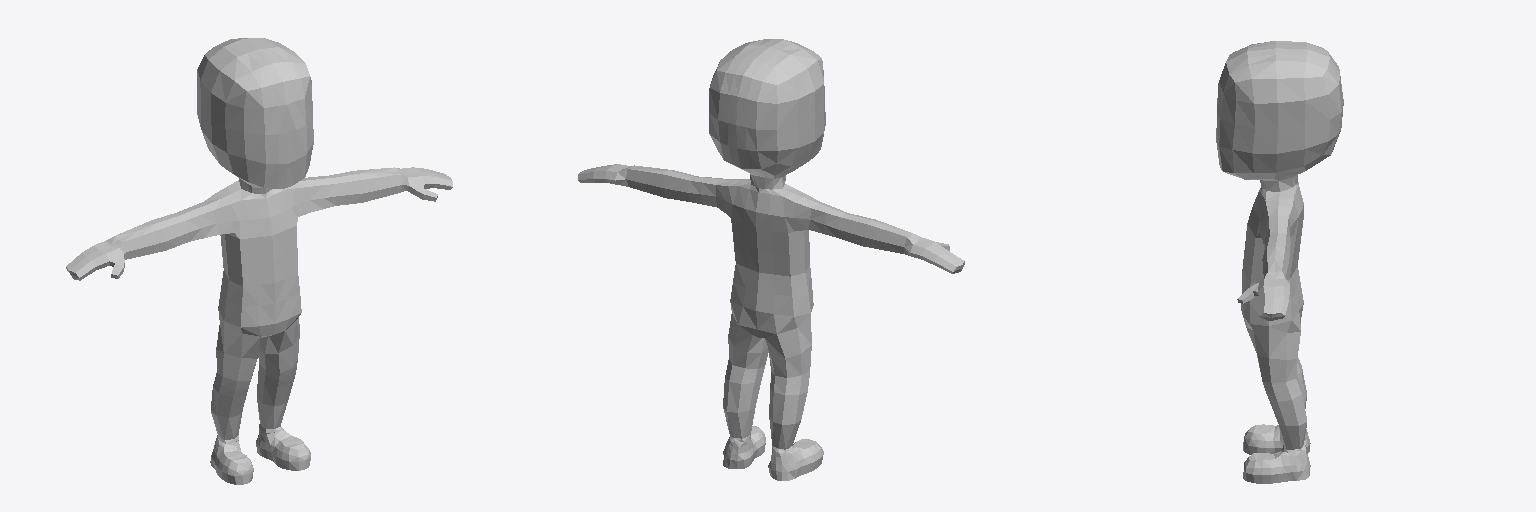
3 views of the same model, side by side, from view 1: azimuth 30°, elevation 25°; view 2: azimuth 150°, elevation 25°; view 3: azimuth 270°, elevation 25° (orthographic).
Parts seen in each view (by area): view 1: characterMedium; view 2: characterMedium; view 3: characterMedium.
Part boxes in pixels (bbox=[...]): characterMedium: bbox=[66, 38, 452, 484]; characterMedium: bbox=[578, 39, 964, 480]; characterMedium: bbox=[1216, 41, 1343, 483].
Size of the model in its own units: 3.62 by 3.76 by 1.05.